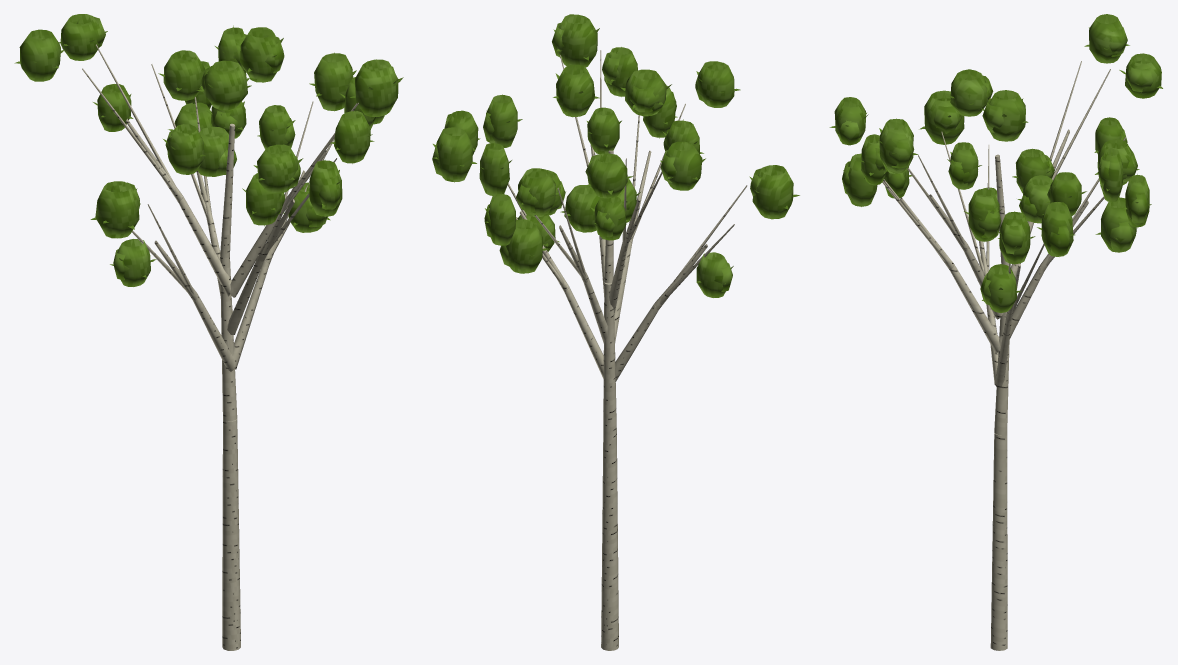
Rendered from birch01-lod0.glb.
3 renders of one model, left to right at view 1: azimuth 30°, elevation 25°; view 2: azimuth 150°, elevation 25°; view 3: azimuth 270°, elevation 25°, orthographic. The views are drawn at different scales.
Parts seen in each view (by area): view 1: TZ_birch_Batch_01_LOD0, TZ_birch_Batch_00_LOD0, TZ_birch_Batch_02_LOD0; view 2: TZ_birch_Batch_01_LOD0, TZ_birch_Batch_00_LOD0, TZ_birch_Batch_02_LOD0; view 3: TZ_birch_Batch_01_LOD0, TZ_birch_Batch_00_LOD0, TZ_birch_Batch_02_LOD0.
Boxes of the visible parts, x1,y1,x2,y2 form: TZ_birch_Batch_01_LOD0: (19, 14, 398, 286); TZ_birch_Batch_00_LOD0: (82, 44, 358, 650); TZ_birch_Batch_02_LOD0: (14, 31, 403, 277); TZ_birch_Batch_01_LOD0: (432, 14, 793, 297); TZ_birch_Batch_00_LOD0: (507, 50, 747, 650); TZ_birch_Batch_02_LOD0: (433, 28, 799, 284); TZ_birch_Batch_01_LOD0: (834, 14, 1161, 312); TZ_birch_Batch_00_LOD0: (882, 61, 1125, 650); TZ_birch_Batch_02_LOD0: (829, 27, 1162, 300).
Bounding box in the file's own units: 5.28 × 9.2 × 4.87.
Materials: 3 (3 with a texture image).
